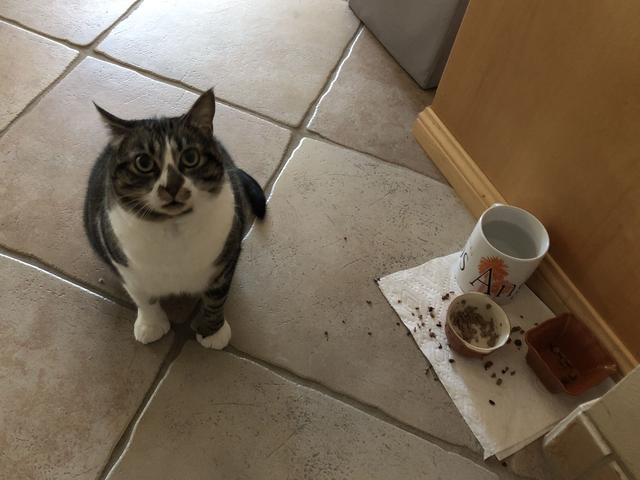playdoh: (82, 87, 272, 353)
